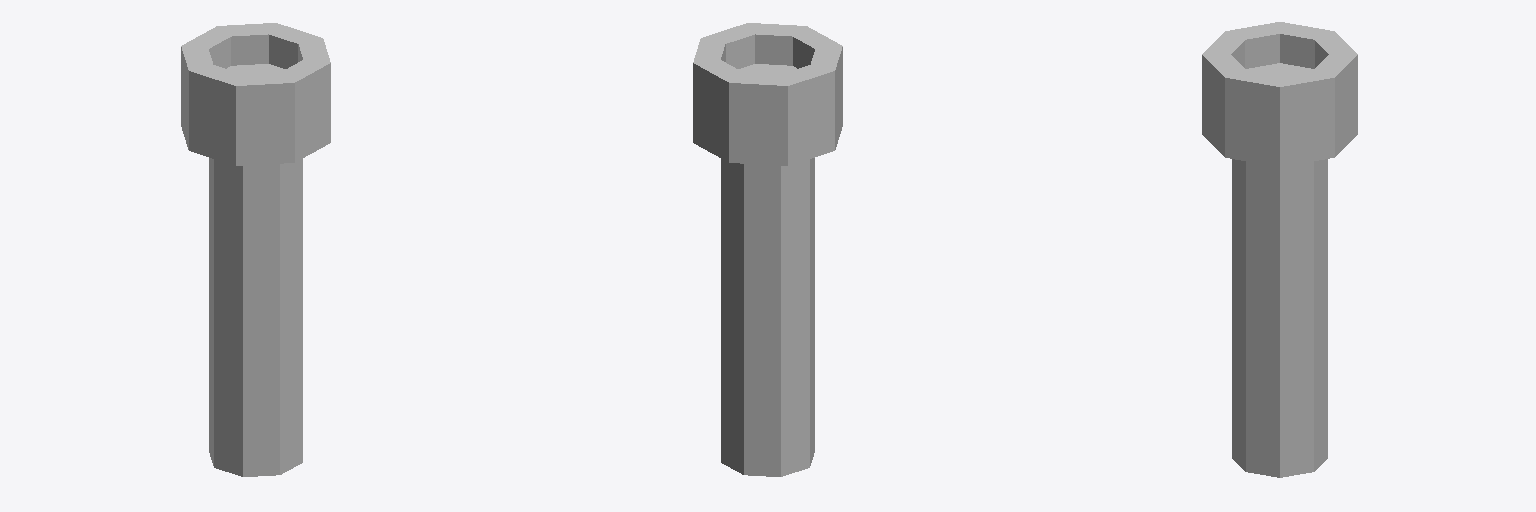
The model's file is lightTorch.obj.
The picture shows the model from 3 angles: view 1: azimuth 30°, elevation 25°; view 2: azimuth 150°, elevation 25°; view 3: azimuth 270°, elevation 25°; orthographic projection.
Visible parts, largest first — view 1: Handle_Circle.001, Light_Circle; view 2: Handle_Circle.001, Light_Circle; view 3: Handle_Circle.001, Light_Circle.
Boxes of the visible parts, x1,y1,x2,y2 form: Handle_Circle.001: [209, 158, 302, 476]; Light_Circle: [181, 23, 330, 165]; Handle_Circle.001: [721, 158, 814, 476]; Light_Circle: [693, 23, 842, 165]; Handle_Circle.001: [1232, 159, 1327, 477]; Light_Circle: [1202, 22, 1357, 166].
Size of the model in its own units: 3.2 by 9.17 by 3.2.